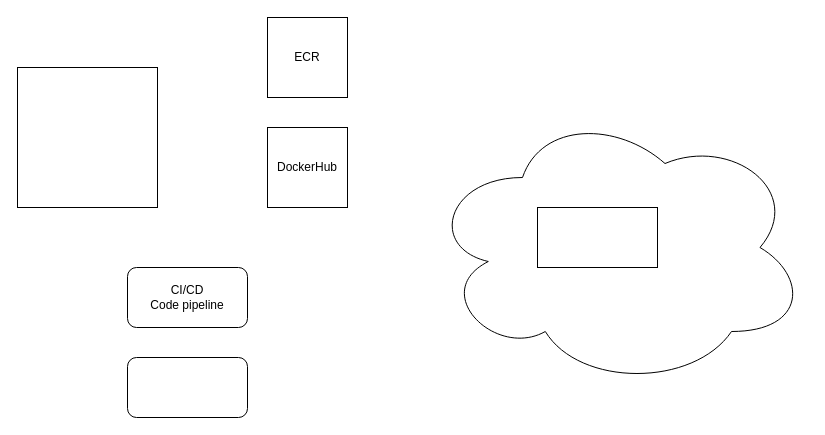
This 825x435 diagram has some shape labels left out. Each missing label, with the box of its shape:
Cloud9: (16, 66, 158, 208)
DEvnet IOx Sandbox: (536, 206, 658, 268)
